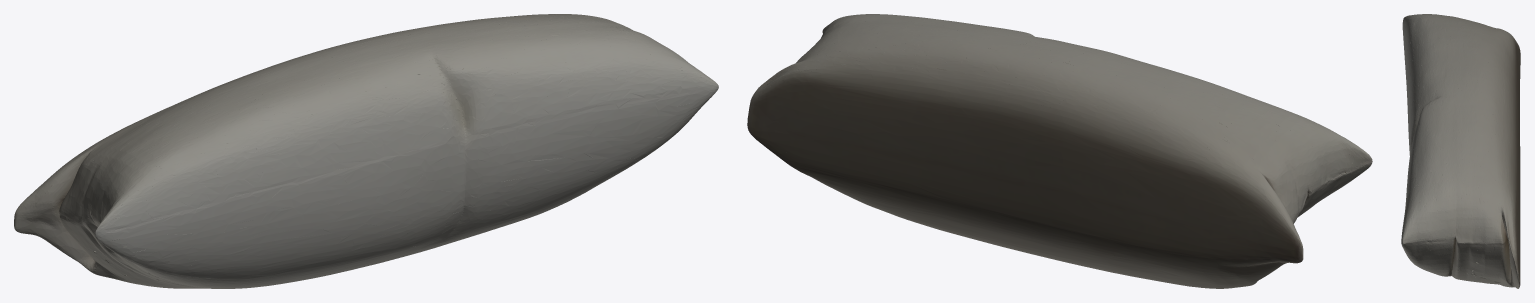
3 renders of one model, left to right at view 1: azimuth 30°, elevation 25°; view 2: azimuth 150°, elevation 25°; view 3: azimuth 270°, elevation 25°, orthographic. The views are drawn at different scales.
Bounding box in the file's own units: 1.48 × 0.4973 × 0.3384.
1 material, 1 textured.
